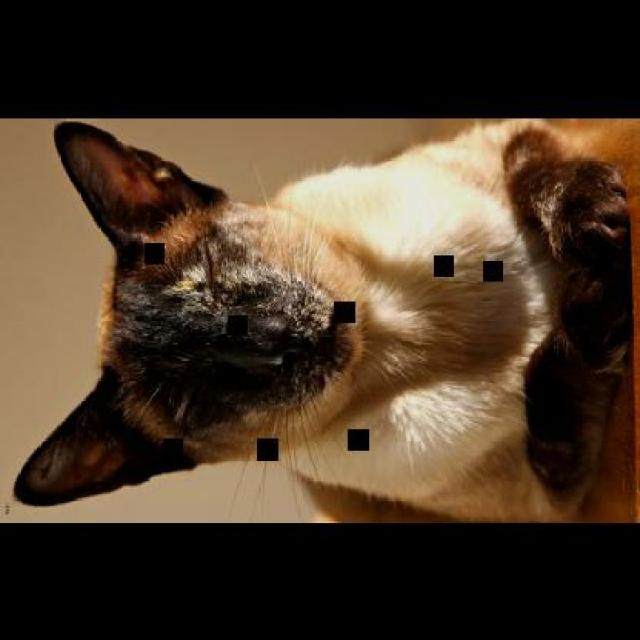unauthorized: (12, 117, 636, 523)
